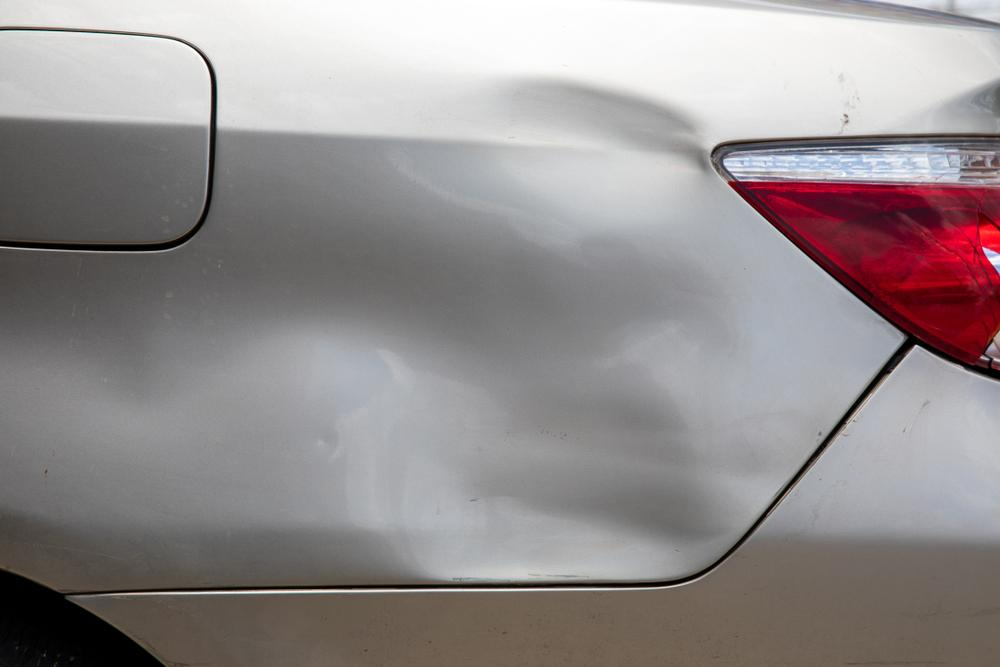dent: (0, 209, 735, 586), (453, 73, 705, 232)
lamp broken: (723, 138, 1000, 371)
